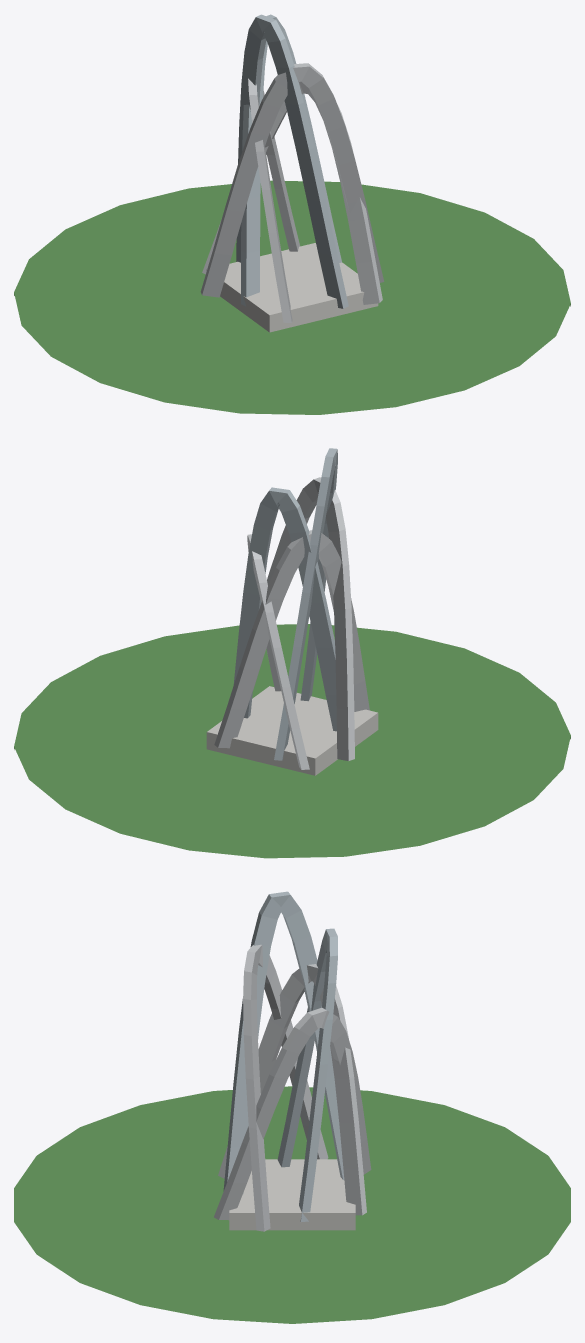
The model's file is rb_waves.glb.
3 views of the same model, one above another, from view 1: azimuth 30°, elevation 25°; view 2: azimuth 150°, elevation 25°; view 3: azimuth 270°, elevation 25° (orthographic).
Visible parts, largest first — view 1: rb_waves_lod0; view 2: rb_waves_lod0; view 3: rb_waves_lod0.
Part boxes in pixels (x1,y1,x2,y2): rb_waves_lod0: (14,14,570,414); rb_waves_lod0: (14,448,570,858); rb_waves_lod0: (14,891,570,1323).
Size of what is drawn, in the model's own units: 16 by 9.38 by 15.84.
